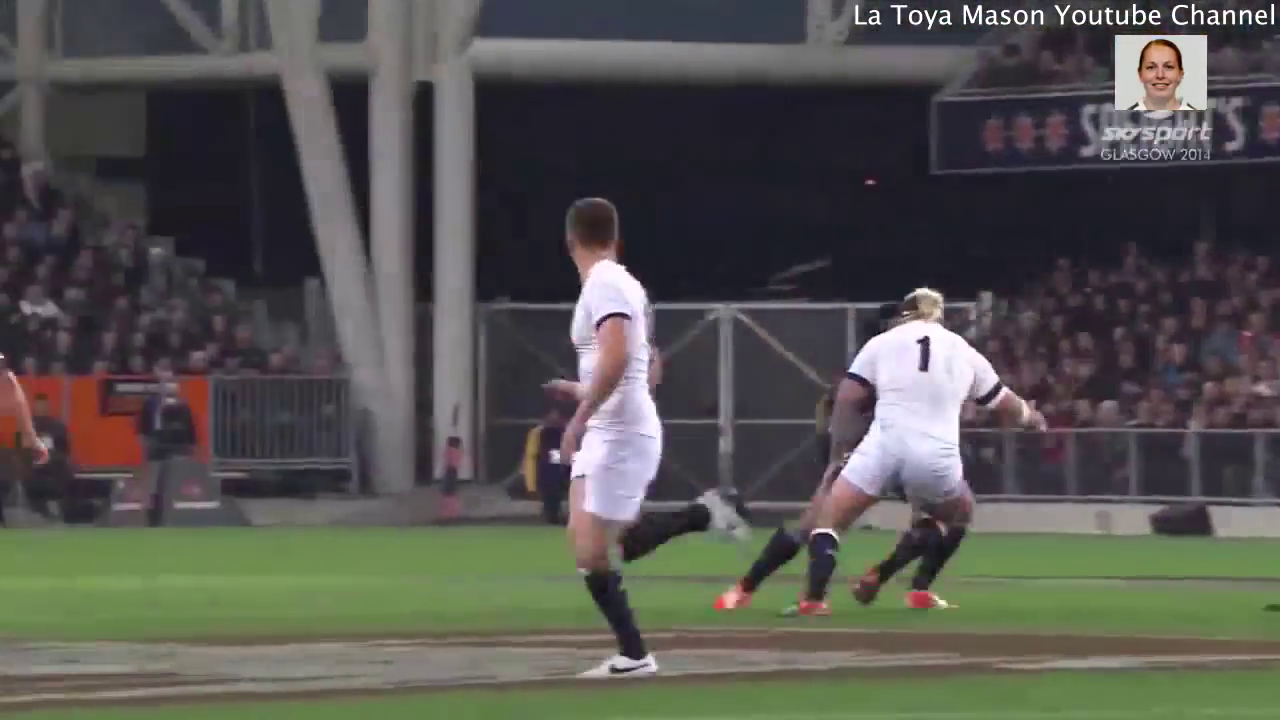player: (532, 179, 769, 699), (771, 281, 1054, 626)
